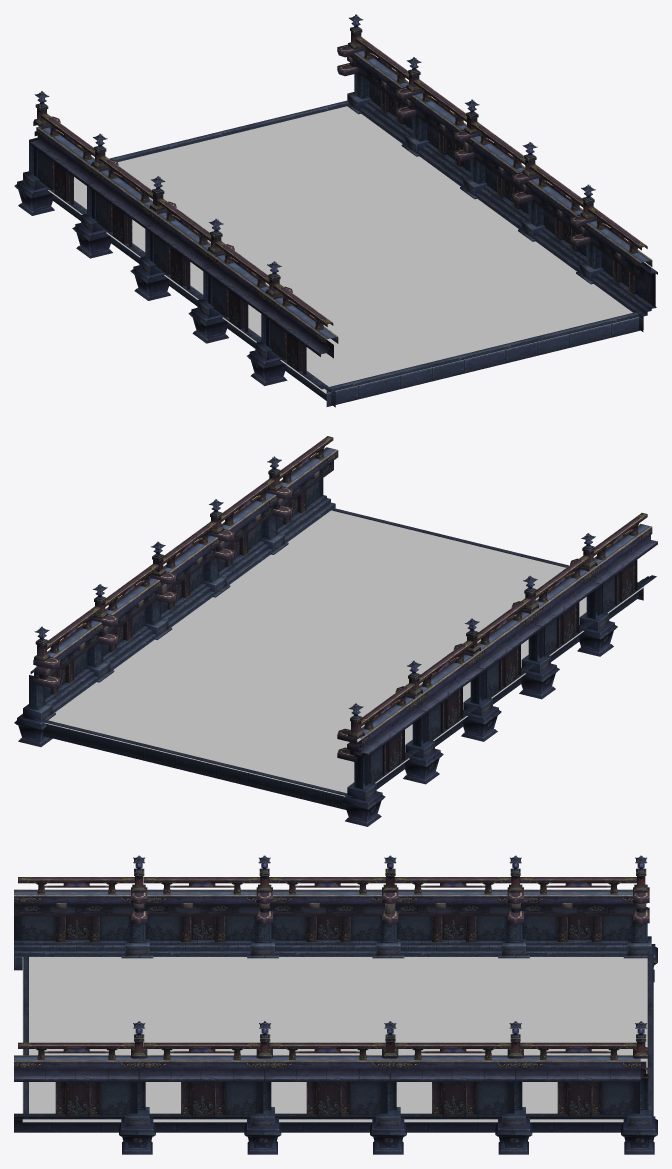
The model's file is Fortress_Bridge.FBX.
The picture shows the model from 3 angles, top to bottom: view 1: azimuth 30°, elevation 25°; view 2: azimuth 150°, elevation 25°; view 3: azimuth 270°, elevation 25°; orthographic projection. The views are drawn at different scales.
Visible parts, largest first — view 1: BaseGround_2, Fortress_2; view 2: BaseGround_2, Fortress_2; view 3: Fortress_2, BaseGround_2.
Part boxes in pixels (box(x1,y1,x2,y2)): BaseGround_2: box(48, 106, 638, 393); Fortress_2: box(14, 14, 657, 407); BaseGround_2: box(44, 510, 644, 796); Fortress_2: box(14, 436, 657, 826); Fortress_2: box(14, 855, 657, 1154); BaseGround_2: box(22, 957, 647, 1122).
Bounding box in the file's own units: 1040 × 322 × 1514.
